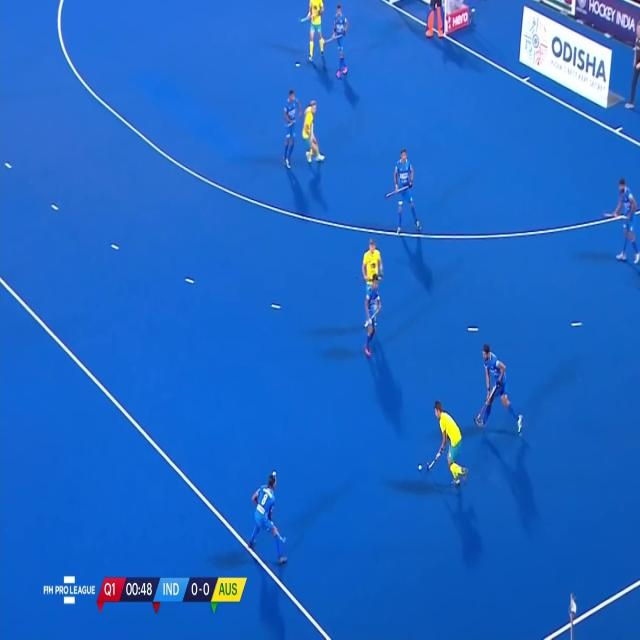ball: (413, 454, 431, 482)
